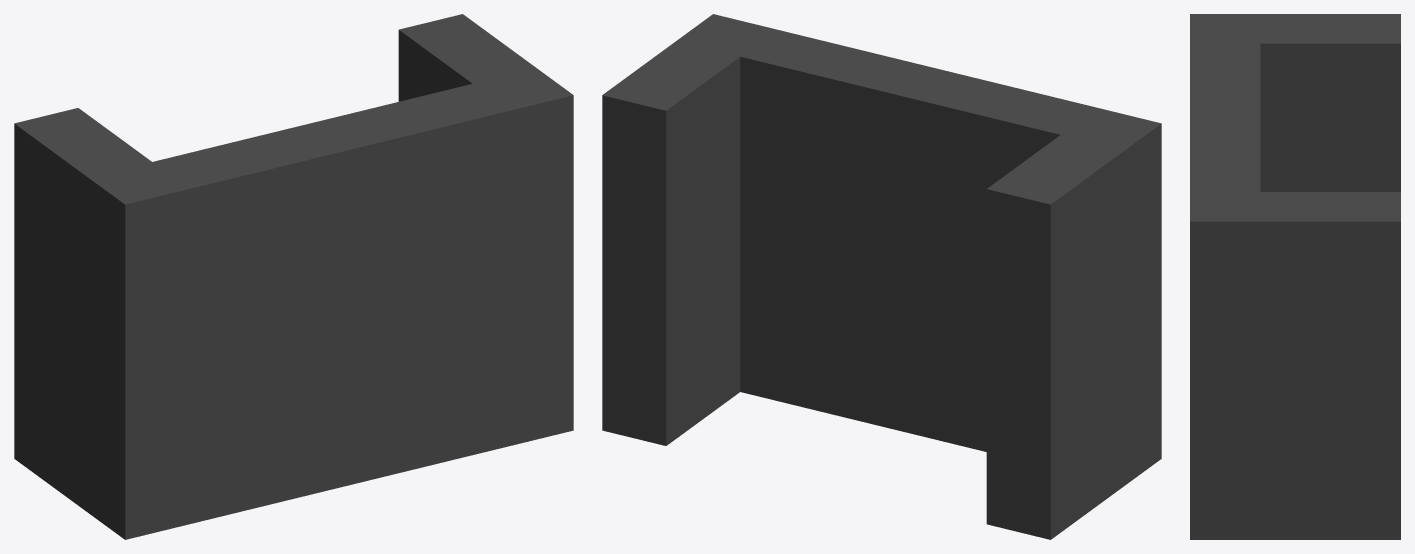
Rendered from light.obj.
3 views of the same model, side by side, from view 1: azimuth 30°, elevation 25°; view 2: azimuth 150°, elevation 25°; view 3: azimuth 270°, elevation 25° (orthographic). The views are drawn at different scales.
Parts seen in each view (by area): view 1: light; view 2: light; view 3: light.
Part boxes in pixels (bbox=[...]): light: bbox=[14, 14, 573, 539]; light: bbox=[602, 14, 1161, 539]; light: bbox=[1190, 14, 1400, 539].
Bounding box in the file's own units: 7 × 5 × 3.
1 material, 1 textured.
